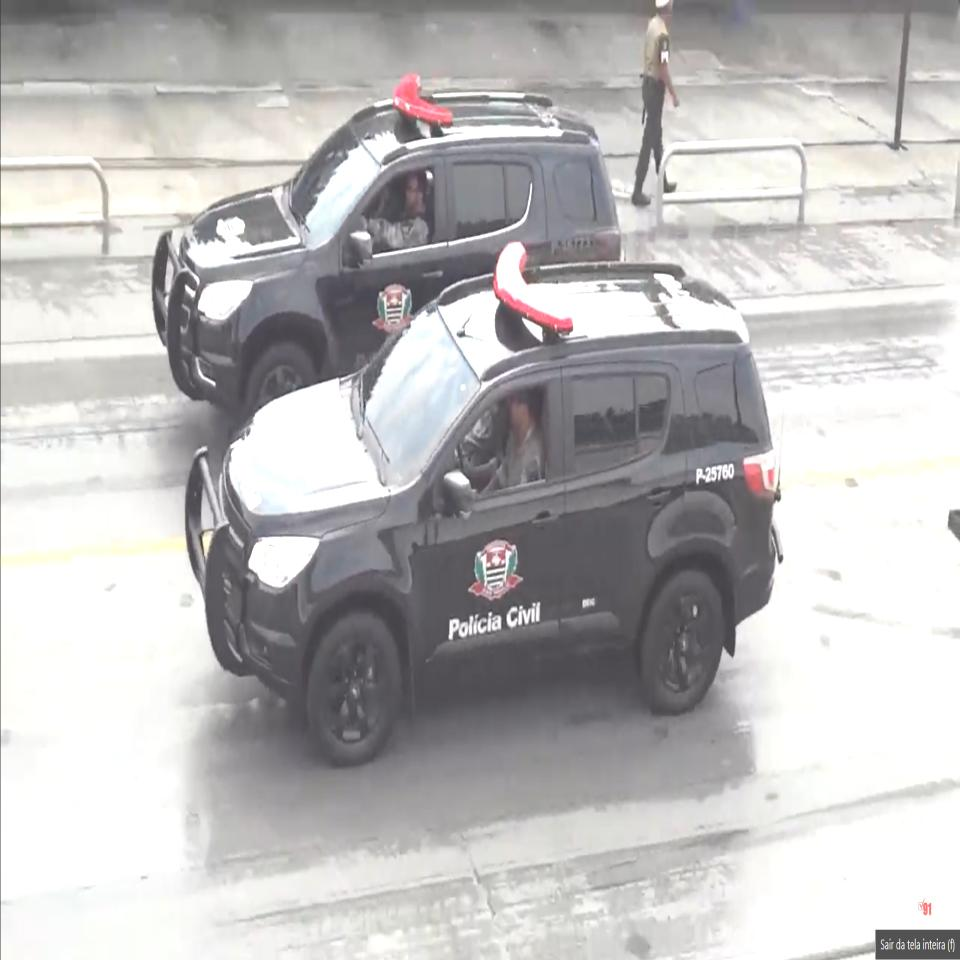viatura: (183, 241, 784, 769), (149, 78, 632, 426)
